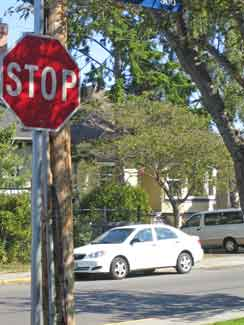stopsign: (1, 35, 82, 130)
